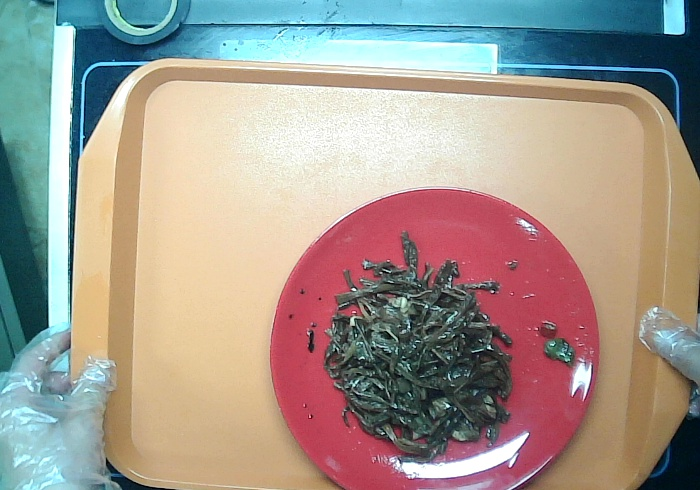HZYJPL-Hong_Se_Yuan_Pan: (261, 181, 604, 490)
